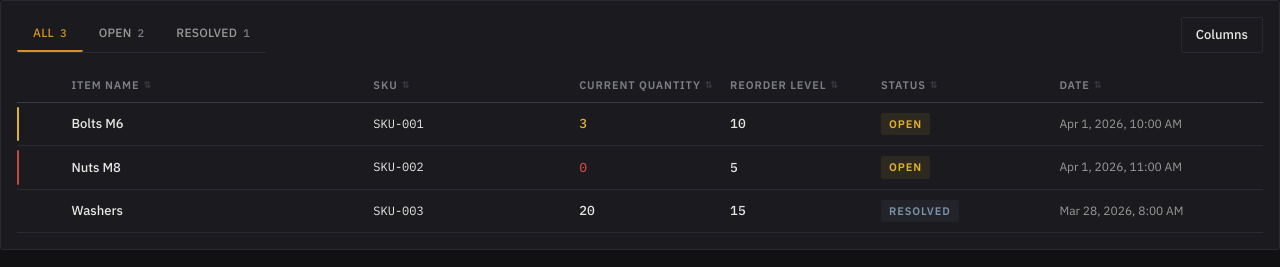
Test: AlertsPanel › filters to show only resolved alerts
Click the button with class "filter-tab" showing "Resolved 1". click: (213, 34)
box: [160, 17, 266, 52]
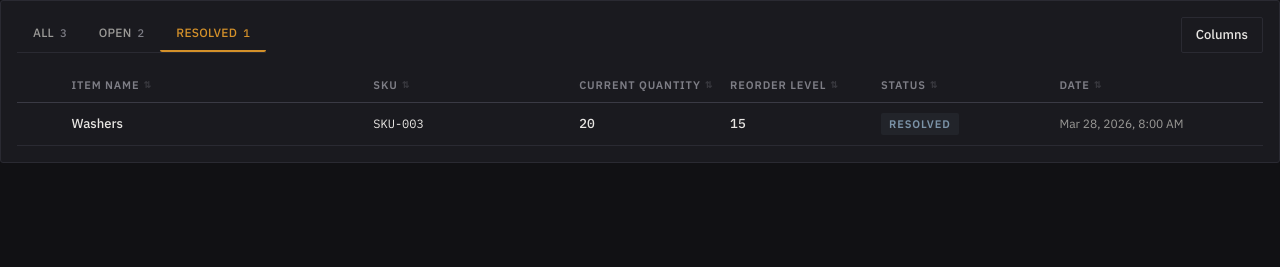
Expected: the text "Washers" is shown, [55, 102, 357, 146]
Result: the text "Bolts M6" is gone
Result: the text "Nuts M8" is gone
